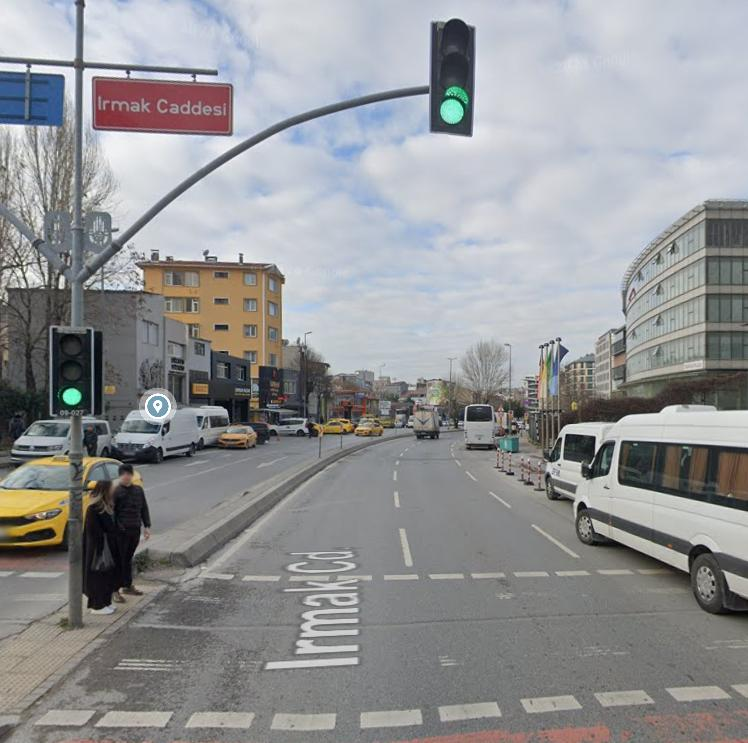greenlight: (433, 18, 472, 129), (51, 328, 90, 407)
